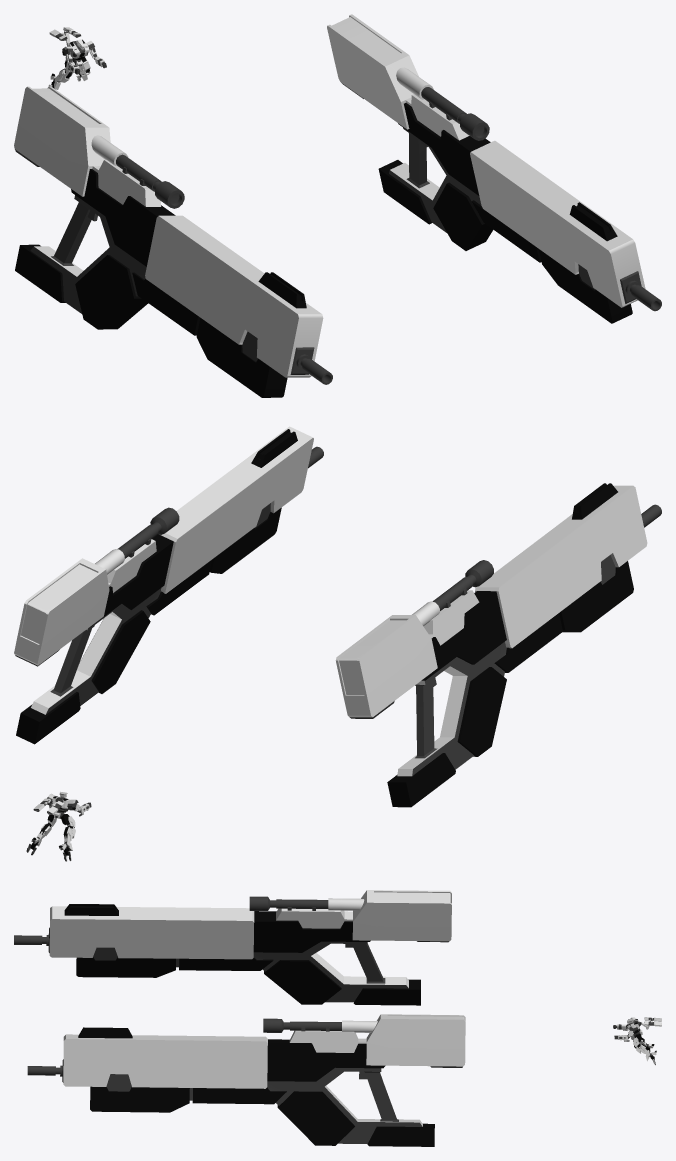
The model's file is striker_game_rifle.fbx.
The picture shows the model from 3 angles, top to bottom: view 1: azimuth 30°, elevation 25°; view 2: azimuth 150°, elevation 25°; view 3: azimuth 270°, elevation 25°; orthographic projection. The views are drawn at different scales.
Visible parts, largest first — view 1: rifle, rifle1; view 2: rifle, rifle1; view 3: rifle1, rifle.
Part boxes in pixels (left/top/right/bottom): rifle: left=14, top=86, right=332, bottom=397; rifle1: left=327, top=14, right=661, bottom=323; rifle: left=335, top=483, right=661, bottom=807; rifle1: left=14, top=426, right=323, bottom=744; rifle1: left=27, top=1014, right=465, bottom=1146; rifle: left=14, top=890, right=451, bottom=1005.
Bounding box in the file's own units: 801 × 352 × 1570.
Materials: 1 (1 with a texture image).
